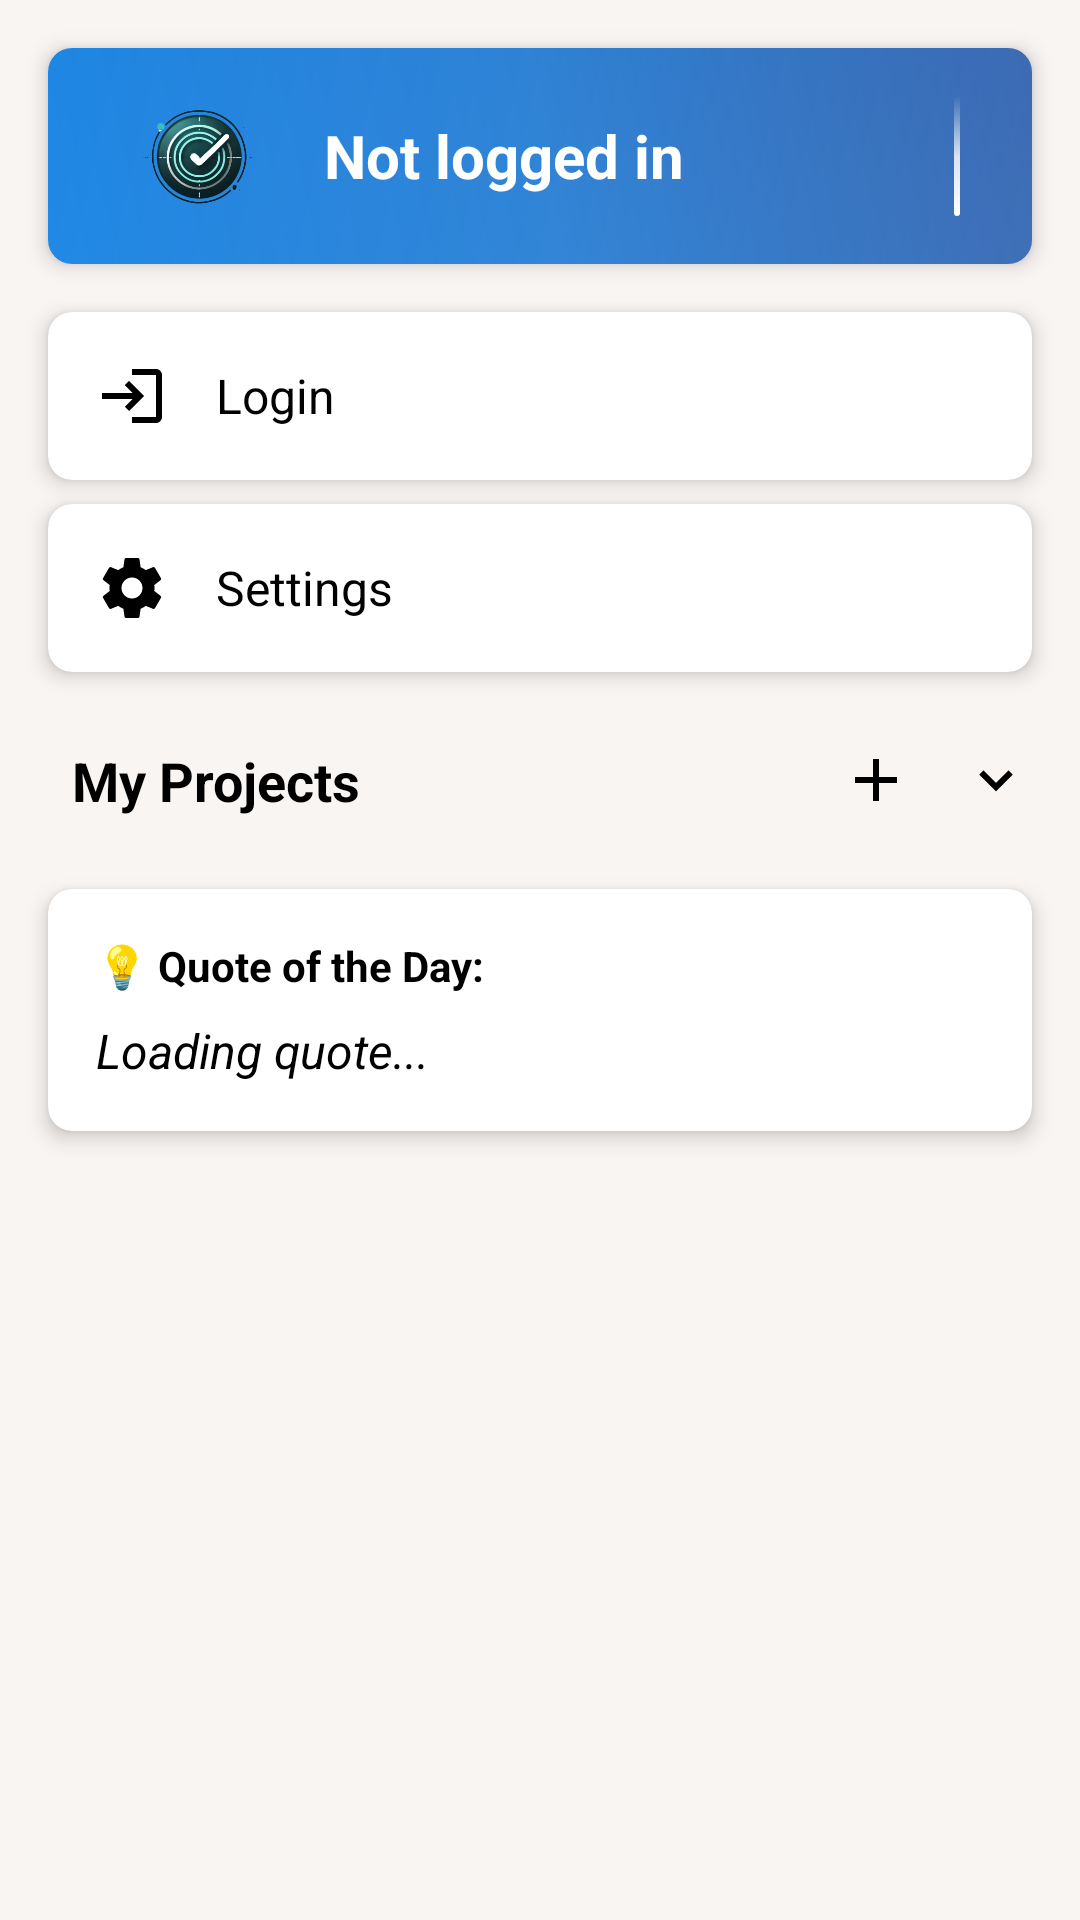

Icon click points for this 1080×1920 phone screenshot, format (x=x, y=y):
Add Project: (x=876, y=780)
Dropdown Projects: (x=996, y=780)
